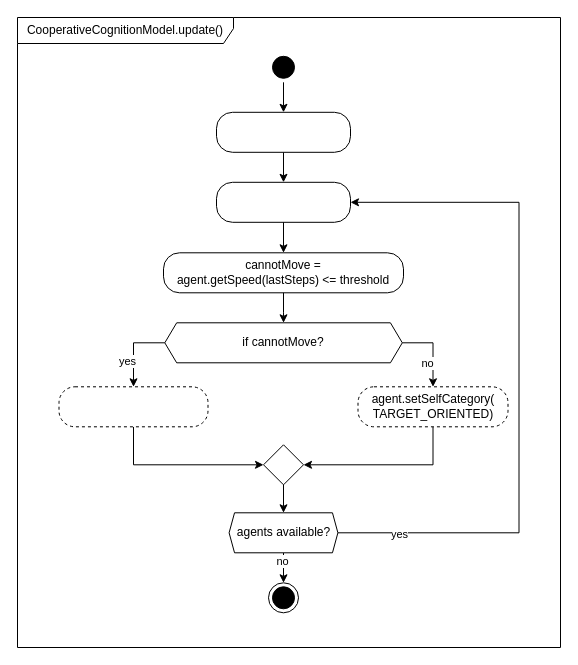
This 578x665 diagram has some shape labels left out. The centre of each missing label's shape, as x and y in pixels:
agent.setSelfCategory( COOPERATIVE): (133,406)
for all agents: (283,201)
lastSteps = 4; threshold = 0.05;: (283,131)
